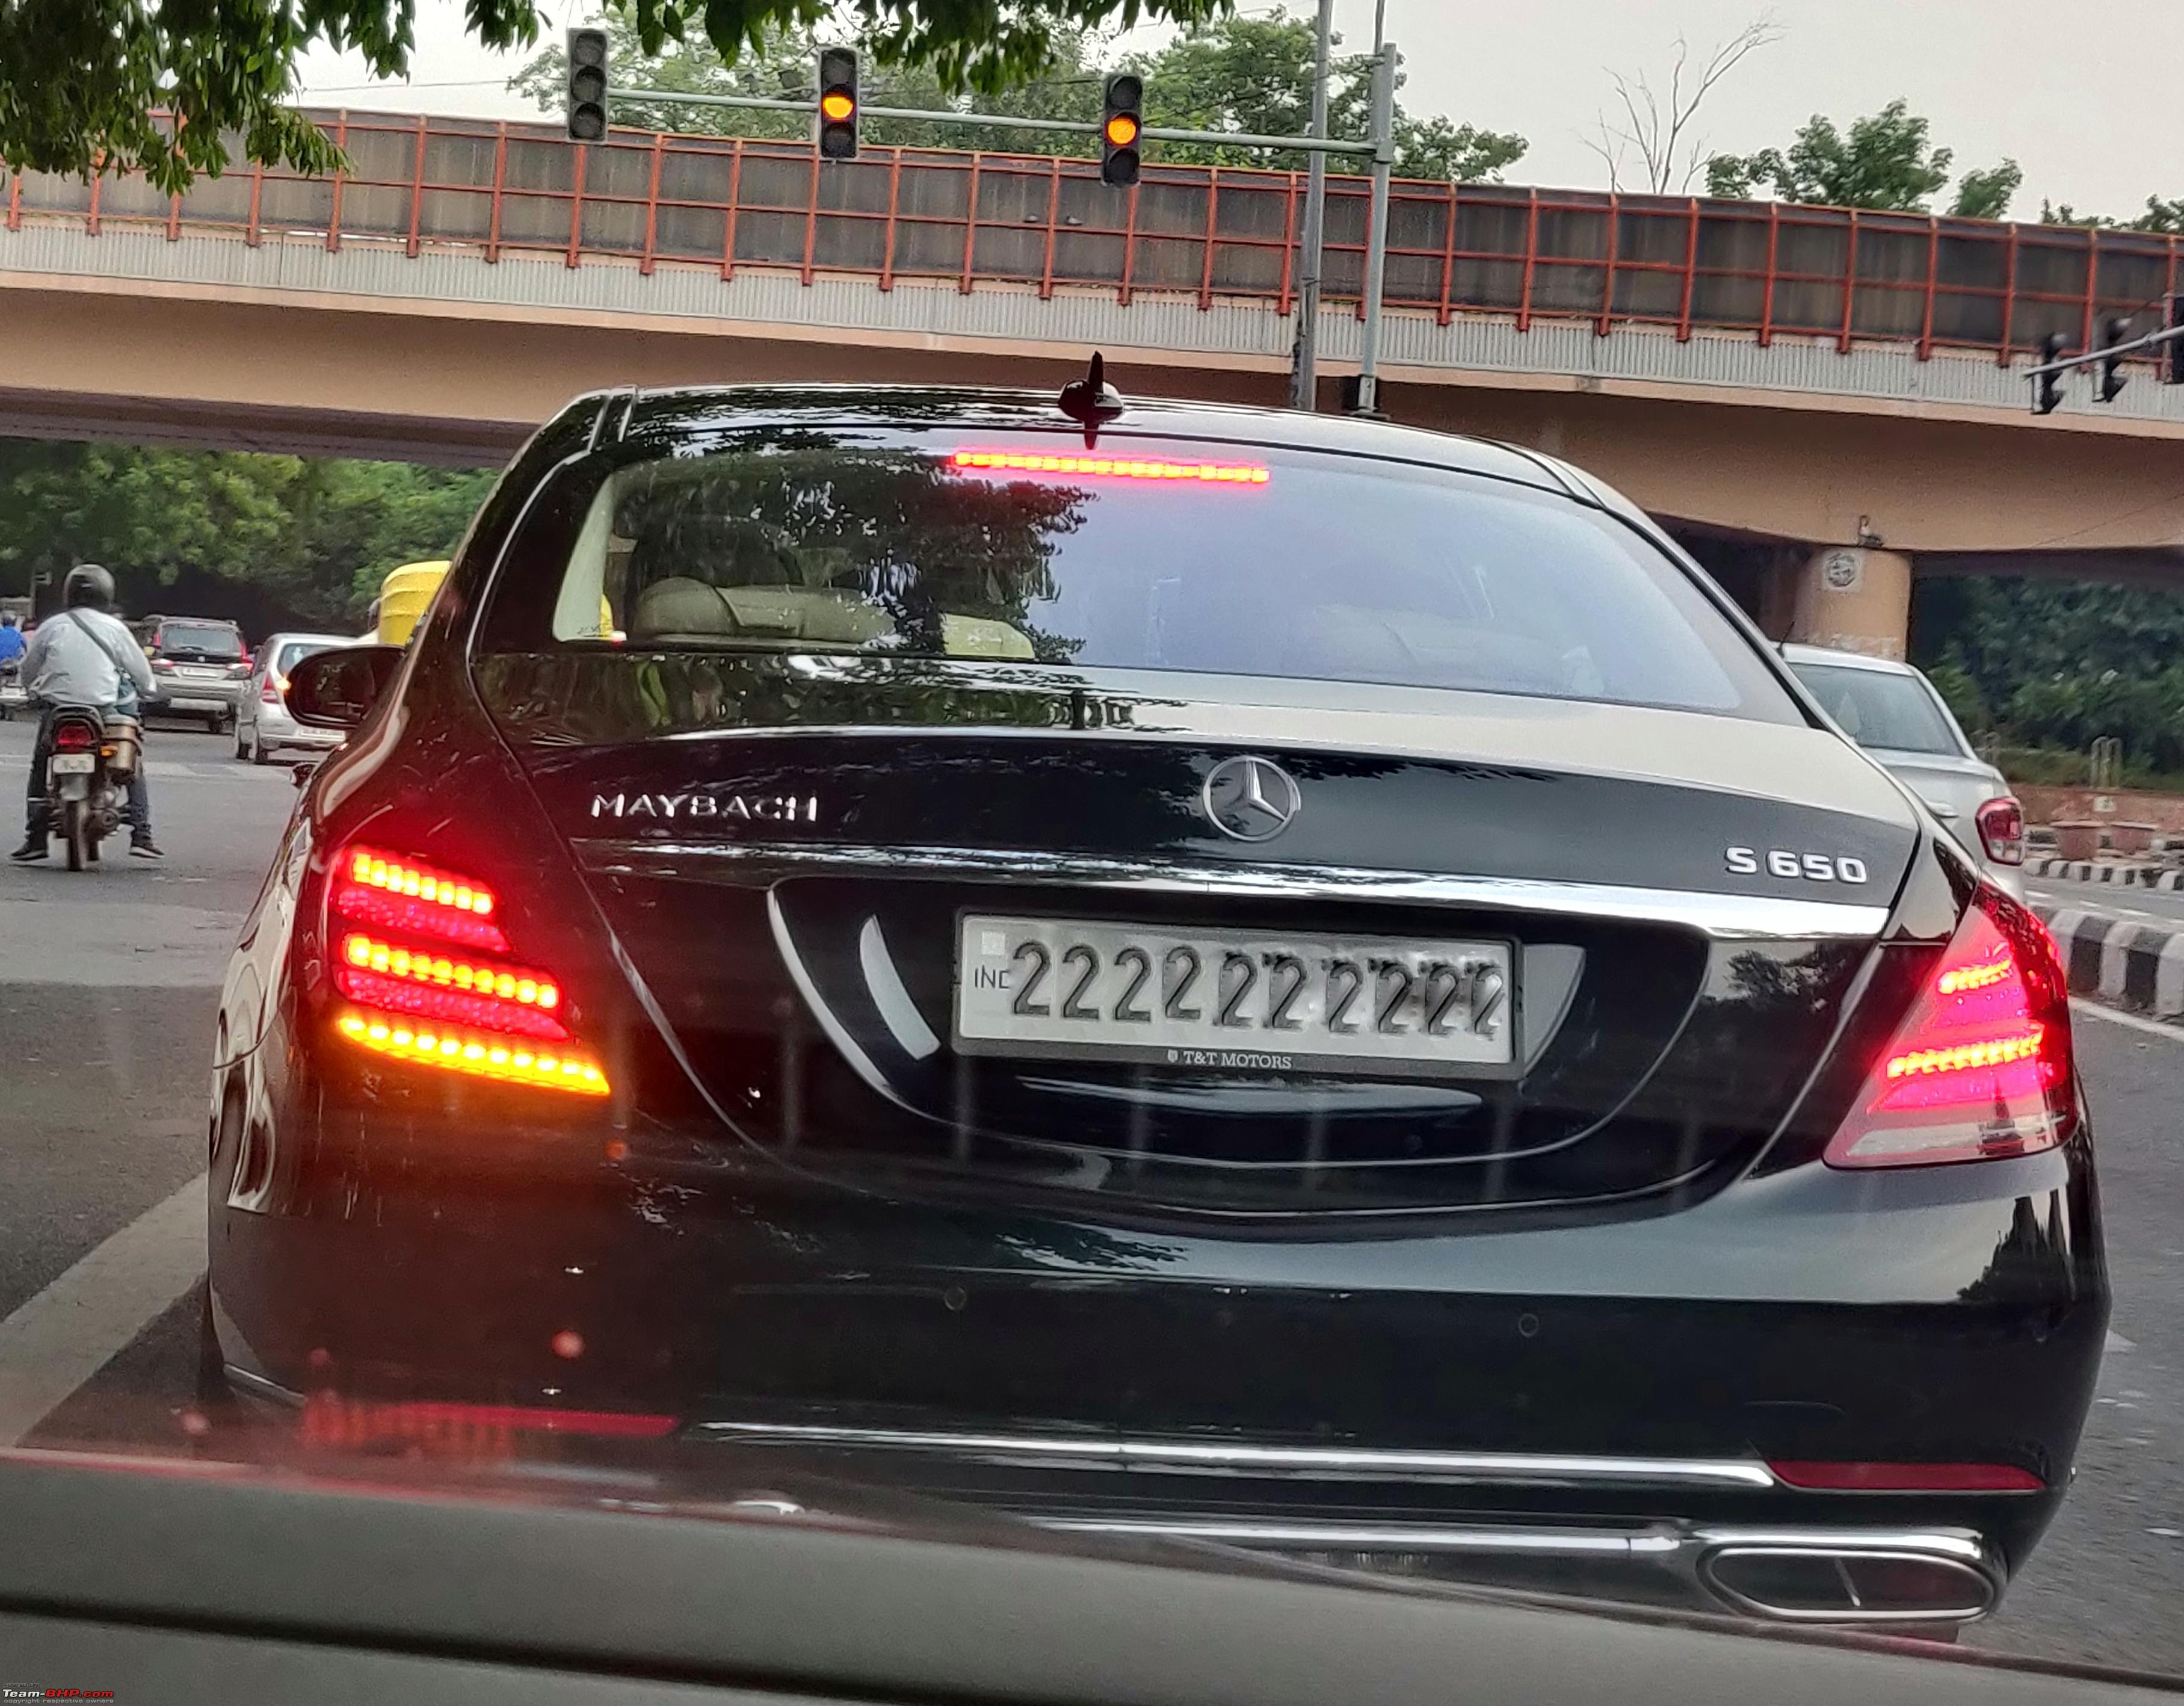car: (175, 371, 2126, 1690)
motor bike: (25, 697, 152, 883)
person: (32, 547, 168, 878)
